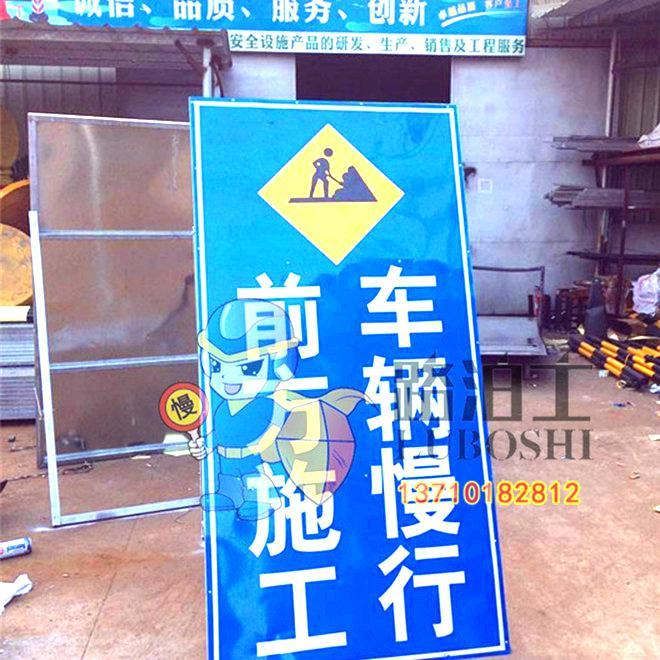sign: (194, 99, 503, 652)
